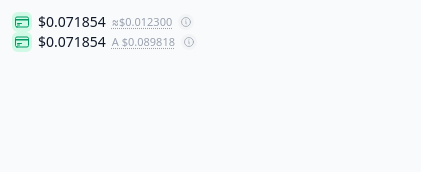
Test: UsageCostCell › renders the hosted reference and admin account cost as compact explained amounts
Expected: the button with test id "usage-cost-reference" reads "≈$0.012300", [112,14,172,30]
What coordinates should you click on to do the following:
click the button with test id "usage-cost-account"
I would click on:
 (143, 42)
Its box is [112,34,175,50].
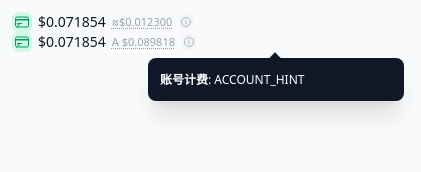
Now the tooltip "账号计费: ACCOUNT_HINT" is shown, box [148,58,404,101]
